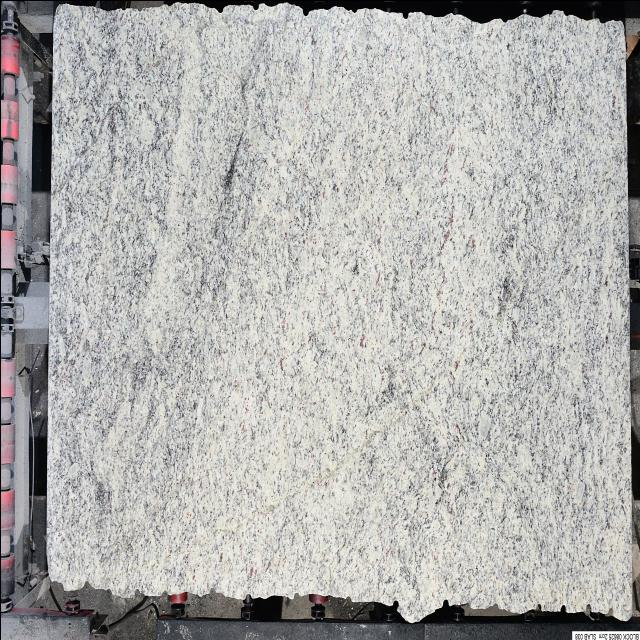chapa: (48, 4, 630, 619)
